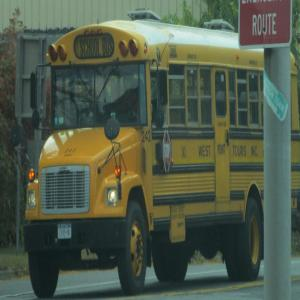Vehicle-registration-plate: (58, 223, 72, 241)
